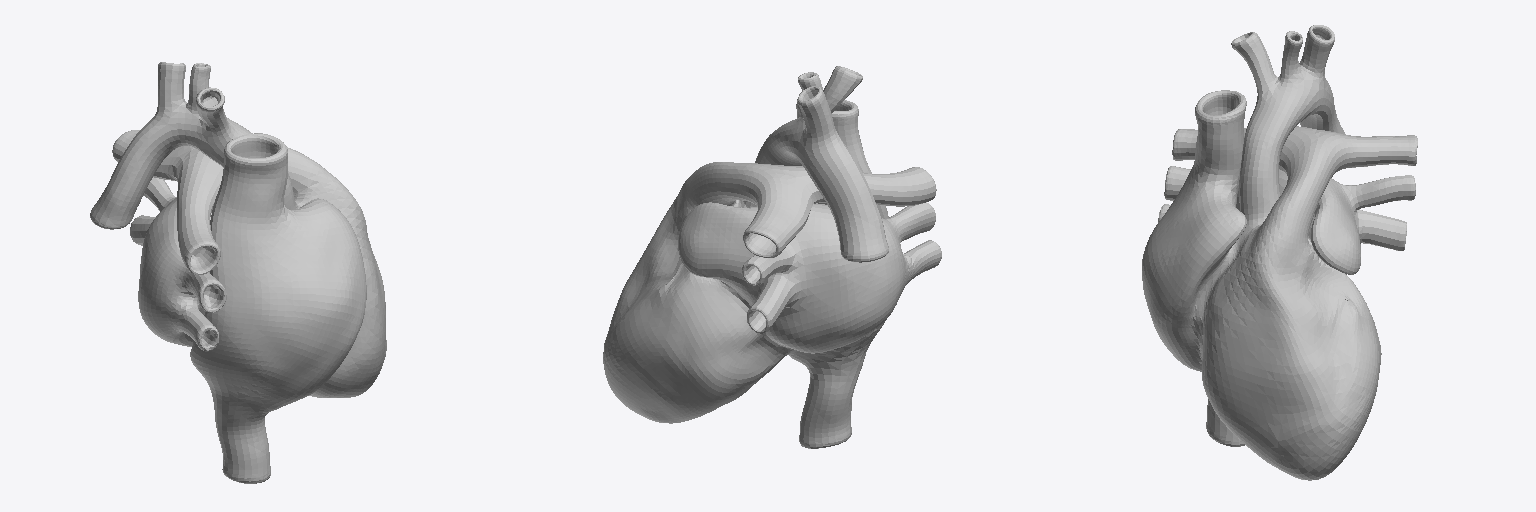
3 renders of one model, left to right at view 1: azimuth 30°, elevation 25°; view 2: azimuth 150°, elevation 25°; view 3: azimuth 270°, elevation 25°, orthographic.
Parts seen in each view (by area): view 1: HEART_PRO; view 2: HEART_PRO; view 3: HEART_PRO.
Part boxes in pixels (x1,y1,x2,y2): HEART_PRO: (90, 62, 386, 483); HEART_PRO: (603, 66, 941, 448); HEART_PRO: (1142, 25, 1417, 480).
Bounding box in the file's own units: 614 × 831 × 525.